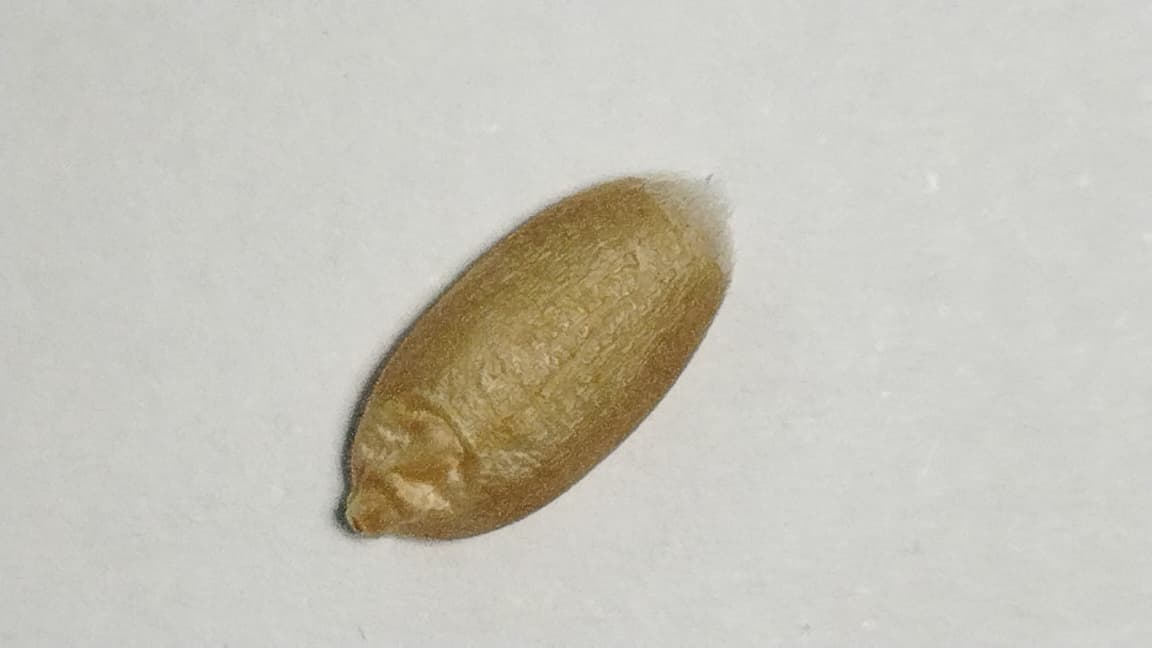healthy: (341, 173, 733, 538)
